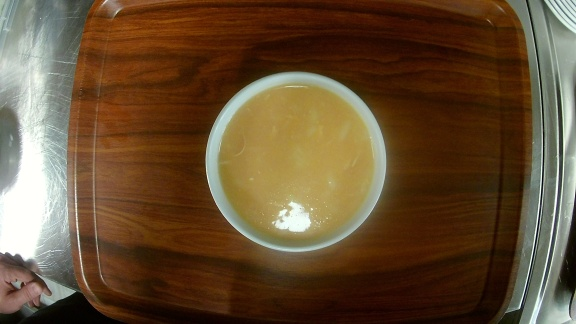tavukcorba: (202, 68, 391, 255)
